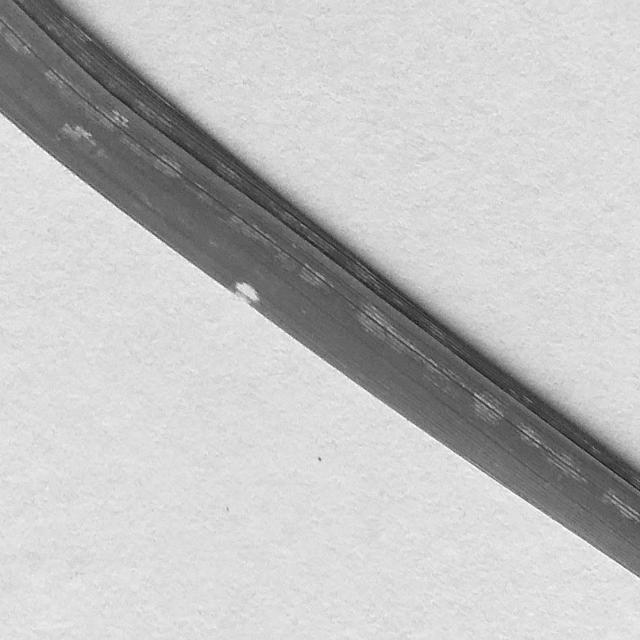Leaf_Blast: (226, 256, 274, 319)
